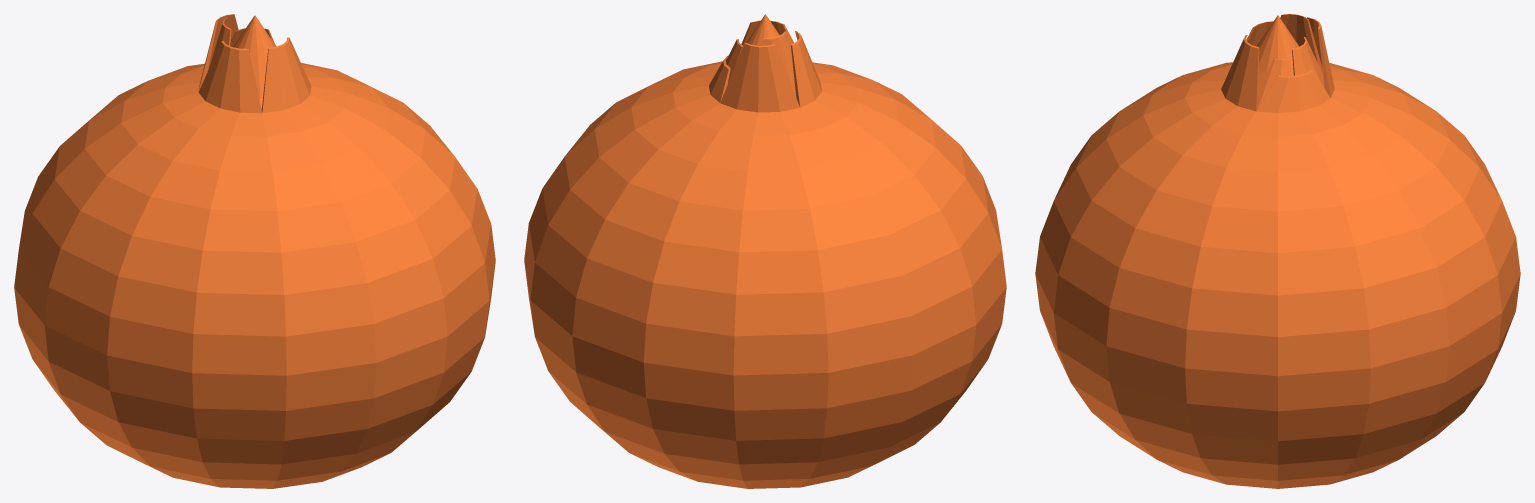
File: onion.glb
3 views of the same model, side by side, from view 1: azimuth 30°, elevation 25°; view 2: azimuth 150°, elevation 25°; view 3: azimuth 270°, elevation 25° (orthographic).
Visible parts, largest first — view 1: Sphere; view 2: Sphere; view 3: Sphere.
Boxes of the visible parts, x1,y1,x2,y2 form: Sphere: [14, 14, 495, 488]; Sphere: [524, 14, 1006, 488]; Sphere: [1035, 14, 1520, 488].
Size of the model in its own units: 0.4636 by 0.4396 by 0.4636.
